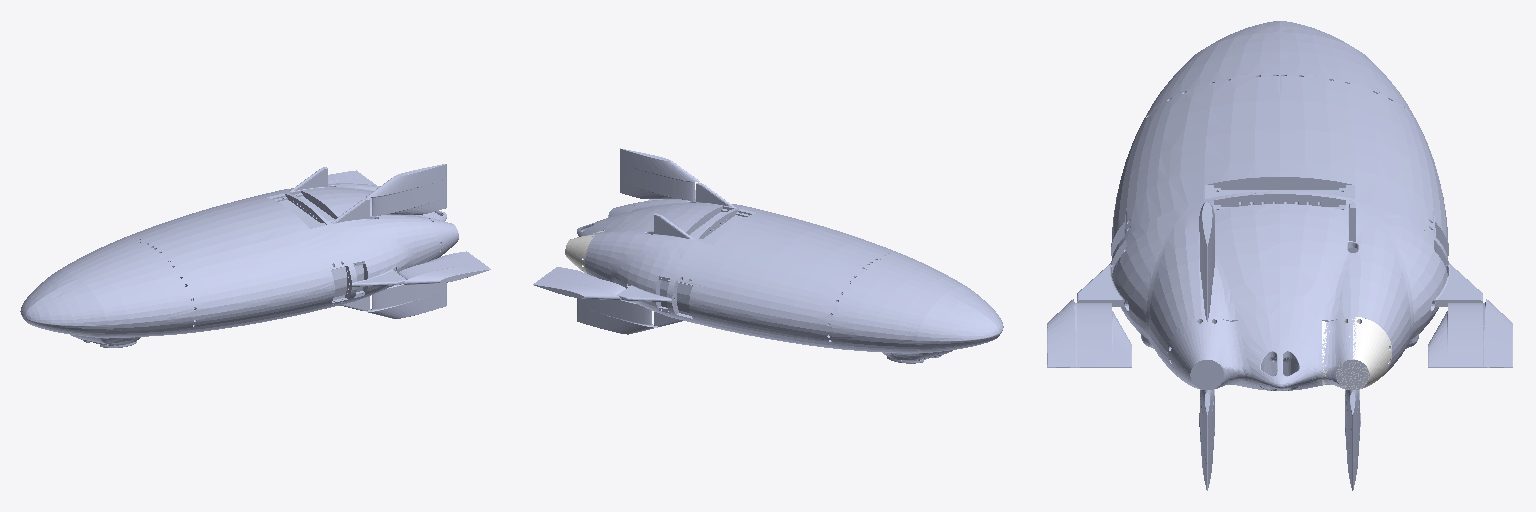
robot.urdf — Full_Assembly_URDF_Combined:
<?xml version="1.0" encoding="utf-8"?>
<!-- This URDF was automatically created by SolidWorks to URDF Exporter! Originally created by Stephen Brawner (brawner@gmail.com) 
     Commit Version: 1.6.0-4-g7f85cfe  Build Version: 1.6.7995.38578
     For more information, please see http://wiki.ros.org/sw_urdf_exporter -->
<robot
  name="Full_Assembly_URDF_Combined">
    <link name="world"/>
  <joint name="world_to_base" type="fixed">
    <parent link="world"/>
    <child link="base_link"/>
    <origin xyz="0 0 0" rpy="0 0 0"/>
  </joint>

<link
    name="base_link">
    <inertial>
      <origin
        xyz="0.78391 6.8773E-05 0.0017477"
        rpy="0 0 0" />
      <mass
        value="50.608" />
      <inertia
        ixx="1.5208"
        ixy="-0.00054244"
        ixz="0.0035527"
        iyy="1.2287"
        iyz="-0.00034252"
        izz="2.2027" />
    </inertial>
    <visual>
      <origin
        xyz="0 0 0"
        rpy="0 0 0" />
      <geometry>
        <mesh
          filename="package://loki_bringup/meshes/base_link.STL" />
      </geometry>
      <material
        name="">
        <color
          rgba="0.79216 0.81961 0.93333 1" />
      </material>
    </visual>
    <collision>
      <origin
        xyz="0 0 0"
        rpy="0 0 0" />
      <geometry>
        <mesh
          filename="package://loki_bringup/meshes/base_link.STL" />
      </geometry>
    </collision>
  </link>
  <link name="imu_link"/>
<joint name="imu_joint" type="fixed">
  <parent link="base_link"/>
  <child link="imu_link"/>
  <origin xyz="0 0 0" rpy="0 0 0"/>
</joint>

<link name="mag_link"/>
<joint name="mag_joint" type="fixed">
  <parent link="base_link"/>
  <child link="mag_link"/>
  <origin xyz="0 0 0" rpy="0 0 0"/>
</joint>
  <link
    name="dvl_link">
    <inertial>
      <origin
        xyz="0.0049709057384924 -8.21692642729358E-10 -0.0061276595567091"
        rpy="0 0 0" />
      <mass
        value="0.152864108890924" />
      <inertia
        ixx="0.000420880349267861"
        ixy="1.34445582378551E-12"
        ixz="-6.29275993865006E-09"
        iyy="0.000323326269815129"
        iyz="2.40831860015147E-14"
        izz="0.000741959167739447" />
    </inertial>
    <visual>
      <origin
        xyz="0 0 0"
        rpy="0 0 0" />
      <geometry>
        <mesh
          filename="package://loki_bringup/meshes/DVL_Link.STL" />
      </geometry>
      <material
        name="">
        <color
          rgba="0.792156862745098 0.819607843137255 0.933333333333333 1" />
      </material>
    </visual>
    <collision>
      <origin
        xyz="0 0 0"
        rpy="0 0 0" />
      <geometry>
        <mesh
          filename="package://loki_bringup/meshes/DVL_Link.STL" />
      </geometry>
    </collision>
  </link>
  <joint
    name="dvl_Joint"
    type="fixed">
    <origin
      xyz="0.315 0 -0.12349"
      rpy="0 0 0" />
    <parent
      link="base_link" />
    <child
      link="dvl_link" />
    <axis
      xyz="0 0 0" />
  </joint>
  <link
    name="TopRudder1_Link">
    <inertial>
      <origin
        xyz="0.11406342481885 5.3965112736809E-07 0.0451652793738003"
        rpy="0 0 0" />
      <mass
        value="0.590786732498221" />
      <inertia
        ixx="0.000817314036554564"
        ixy="-3.32339282259642E-09"
        ixz="6.45683527810724E-05"
        iyy="0.00309009037319869"
        iyz="-1.81174806028622E-08"
        izz="0.0023163369021697" />
    </inertial>
    <visual>
      <origin
        xyz="0 0 0"
        rpy="0 0 0" />
      <geometry>
        <mesh
          filename="package://loki_bringup/meshes/TopRudder1_Link.STL" />
      </geometry>
      <material
        name="">
        <color
          rgba="0.792156862745098 0.819607843137255 0.933333333333333 1" />
      </material>
    </visual>
    <collision>
      <origin
        xyz="0 0 0"
        rpy="0 0 0" />
      <geometry>
        <mesh
          filename="package://loki_bringup/meshes/TopRudder1_Link.STL" />
      </geometry>
    </collision>
  </link>
  <joint
    name="TopRudder1_Joint"
    type="revolute">
    <origin
      xyz="1.1616 -0.129 0.12538"
      rpy="0 0 0" />
    <parent
      link="base_link" />
    <child
      link="TopRudder1_Link" />
    <axis
      xyz="0 0 -1" />
    <limit
      lower="-3.0543"
      upper="3.0543"
      effort="3.5"
      velocity="3" />
  </joint>
  <link
    name="TopRudder2_Link">
    <inertial>
      <origin
        xyz="-0.347004375739745 -0.12893021407232 -0.124111472535882"
        rpy="0 0 0" />
      <mass
        value="54.3097707966866" />
      <inertia
        ixx="1.85656067793216"
        ixy="-0.00196638205157393"
        ixz="-0.0463289624670748"
        iyy="5.30793160673248"
        iyz="-0.000357588777733674"
        izz="6.34918261741631" />
    </inertial>
    <visual>
      <origin
        xyz="0 0 0"
        rpy="0 0 0" />
      <geometry>
        <mesh
          filename="package://loki_bringup/meshes/TopRudder2_Link.STL" />
      </geometry>
      <material
        name="">
        <color
          rgba="1 1 1 1" />
      </material>
    </visual>
    <collision>
      <origin
        xyz="0 0 0"
        rpy="0 0 0" />
      <geometry>
        <mesh
          filename="package://loki_bringup/meshes/TopRudder2_Link.STL" />
      </geometry>
    </collision>
  </link>
  <joint
    name="TopRudder2_Joint"
    type="revolute">
    <origin
      xyz="1.1616 0.129 0.12538"
      rpy="0 0 0" />
    <parent
      link="base_link" />
    <child
      link="TopRudder2_Link" />
    <axis
      xyz="0 0 -1" />
    <limit
      lower="-3.0543"
      upper="3.0543"
      effort="3.5"
      velocity="3" />
  </joint>
  <link
    name="BottomRudder1_Link">
    <inertial>
      <origin
        xyz="0.114063424818847 -5.39651127007268E-07 -0.0465424879815879"
        rpy="0 0 0" />
      <mass
        value="0.590786732498232" />
      <inertia
        ixx="0.000817314036554592"
        ixy="3.32339282189993E-09"
        ixz="-6.45683527810827E-05"
        iyy="0.00309009037319873"
        iyz="-1.81174806008853E-08"
        izz="0.00231633690216971" />
    </inertial>
    <visual>
      <origin
        xyz="0 0 0"
        rpy="0 0 0" />
      <geometry>
        <mesh
          filename="package://loki_bringup/meshes/BottomRudder1_Link.STL" />
      </geometry>
      <material
        name="">
        <color
          rgba="0.792156862745098 0.819607843137255 0.933333333333333 1" />
      </material>
    </visual>
    <collision>
      <origin
        xyz="0 0 0"
        rpy="0 0 0" />
      <geometry>
        <mesh
          filename="package://loki_bringup/meshes/BottomRudder1_Link.STL" />
      </geometry>
    </collision>
  </link>
  <joint
    name="BottomRudder1_Joint"
    type="revolute">
    <origin
      xyz="1.1616 -0.129 -0.124"
      rpy="0 0 0" />
    <parent
      link="base_link" />
    <child
      link="BottomRudder1_Link" />
    <axis
      xyz="0 0 1" />
    <limit
      lower="-3.0543"
      upper="3.0543"
      effort="3.5"
      velocity="3" />
  </joint>
  <link
    name="BottomRudder2_Joint">
    <inertial>
      <origin
        xyz="0.114063424818846 -5.39651127257068E-07 -0.0465424879815884"
        rpy="0 0 0" />
      <mass
        value="0.590786732498239" />
      <inertia
        ixx="0.000817314036554593"
        ixy="3.32339282441559E-09"
        ixz="-6.45683527810989E-05"
        iyy="0.00309009037319872"
        iyz="-1.81174806014077E-08"
        izz="0.0023163369021697" />
    </inertial>
    <visual>
      <origin
        xyz="0 0 0"
        rpy="0 0 0" />
      <geometry>
        <mesh
          filename="package://loki_bringup/meshes/BottomRudder2_Joint.STL" />
      </geometry>
      <material
        name="">
        <color
          rgba="0.792156862745098 0.819607843137255 0.933333333333333 1" />
      </material>
    </visual>
    <collision>
      <origin
        xyz="0 0 0"
        rpy="0 0 0" />
      <geometry>
        <mesh
          filename="package://loki_bringup/meshes/BottomRudder2_Joint.STL" />
      </geometry>
    </collision>
  </link>
  <joint
    name="BottomRudder2_Joint"
    type="revolute">
    <origin
      xyz="1.1616 0.129 -0.124"
      rpy="0 0 0" />
    <parent
      link="base_link" />
    <child
      link="BottomRudder2_Joint" />
    <axis
      xyz="0 0 1" />
    <limit
      lower="-3.0543"
      upper="3.0543"
      effort="3.5"
      velocity="3" />
  </joint>
  <link
    name="Elevator1_Link">
    <inertial>
      <origin
        xyz="0.116563424818847 -0.0451652793737996 5.39651127148258E-07"
        rpy="0 0 0" />
      <mass
        value="0.590786732498239" />
      <inertia
        ixx="0.0008173140365546"
        ixy="-6.45683527810796E-05"
        ixz="-3.32339282760955E-09"
        iyy="0.00231633690216975"
        iyz="1.81174806006159E-08"
        izz="0.00309009037319878" />
    </inertial>
    <visual>
      <origin
        xyz="0 0 0"
        rpy="0 0 0" />
      <geometry>
        <mesh
          filename="package://loki_bringup/meshes/Elevator1_Link.STL" />
      </geometry>
      <material
        name="">
        <color
          rgba="0.792156862745098 0.819607843137255 0.933333333333333 1" />
      </material>
    </visual>
    <collision>
      <origin
        xyz="0 0 0"
        rpy="0 0 0" />
      <geometry>
        <mesh
          filename="package://loki_bringup/meshes/Elevator1_Link.STL" />
      </geometry>
    </collision>
  </link>
  <joint
    name="Elevator1_Joint"
    type="revolute">
    <origin
      xyz="1.1541 -0.29788 0"
      rpy="0 0 0" />
    <parent
      link="base_link" />
    <child
      link="Elevator1_Link" />
    <axis
      xyz="0 1 0" />
    <limit
      lower="-3.0543"
      upper="3.0543"
      effort="3.5"
      velocity="3" />
  </joint>
  <link
    name="Elevator2_Link">
    <inertial>
      <origin
        xyz="0.116563424818846 0.0451652793737992 -5.3965112792912E-07"
        rpy="0 0 0" />
      <mass
        value="0.590786732498255" />
      <inertia
        ixx="0.00081731403655464"
        ixy="6.45683527811046E-05"
        ixz="3.32339282568966E-09"
        iyy="0.00231633690216979"
        iyz="1.81174805984361E-08"
        izz="0.00309009037319886" />
    </inertial>
    <visual>
      <origin
        xyz="0 0 0"
        rpy="0 0 0" />
      <geometry>
        <mesh
          filename="package://loki_bringup/meshes/Elevator2_Link.STL" />
      </geometry>
      <material
        name="">
        <color
          rgba="0.792156862745098 0.819607843137255 0.933333333333333 1" />
      </material>
    </visual>
    <collision>
      <origin
        xyz="0 0 0"
        rpy="0 0 0" />
      <geometry>
        <mesh
          filename="package://loki_bringup/meshes/Elevator2_Link.STL" />
      </geometry>
    </collision>
  </link>
  <joint
    name="Elevator2_Joint"
    type="fixed">
    <origin
      xyz="1.1541 0.29788 0"
      rpy="0 0 0" />
    <parent
      link="base_link" />
    <child
      link="Elevator2_Link" />
    <axis
      xyz="0 0 0" />
    <limit
      lower="-3.0543"
      upper="3.0543"
      effort="3.5"
      velocity="3" />
  </joint>
  <link
    name="Thruster1_Link">
    <inertial>
      <origin
        xyz="-0.0490917696113775 0.00210022795946702 4.68754707284568E-07"
        rpy="0 0 0" />
      <mass
        value="0.654254699059244" />
      <inertia
        ixx="0.00111306507280098"
        ixy="-4.73549434643004E-05"
        ixz="4.17660663947306E-09"
        iyy="0.000897148027270713"
        iyz="4.16508637924178E-08"
        izz="0.000907054385661878" />
    </inertial>
    <visual>
      <origin
        xyz="0 0 0"
        rpy="0 0 0" />
      <geometry>
        <mesh
          filename="package://loki_bringup/meshes/Thruster1_Link.STL" />
      </geometry>
      <material
        name="">
        <color
          rgba="0.792156862745098 0.819607843137255 0.933333333333333 1" />
      </material>
    </visual>
    <collision>
      <origin
        xyz="0 0 0"
        rpy="0 0 0" />
      <geometry>
        <mesh
          filename="package://loki_bringup/meshes/Thruster1_Link.STL" />
      </geometry>
    </collision>
  </link>
  <joint
    name="Thruster1_Joint"
    type="fixed">
    <origin
      xyz="1.444 -0.129 0"
      rpy="0 0 0" />
    <parent
      link="base_link" />
    <child
      link="Thruster1_Link" />
    <axis
      xyz="0 0 0" />
  </joint>
  <link
    name="Thruster2_Link">
    <inertial>
      <origin
        xyz="0 0 0"
        rpy="0 0 0" />
      <mass
        value="0" />
      <inertia
        ixx="0"
        ixy="0"
        ixz="0"
        iyy="0"
        iyz="0"
        izz="0" />
    </inertial>
    <visual>
      <origin
        xyz="0 0 0"
        rpy="0 0 0" />
      <geometry>
        <mesh
          filename="package://loki_bringup/meshes/Thruster2_Link.STL" />
      </geometry>
      <material
        name="">
        <color
          rgba="1 1 1 1" />
      </material>
    </visual>
    <collision>
      <origin
        xyz="0 0 0"
        rpy="0 0 0" />
      <geometry>
        <mesh
          filename="package://loki_bringup/meshes/Thruster2_Link.STL" />
      </geometry>
    </collision>
  </link>
  <joint
    name="Thruster2_Joint"
    type="fixed">
    <origin
      xyz="1.444 0.129 0"
      rpy="0 0 0" />
    <parent
      link="base_link" />
    <child
      link="Thruster2_Link" />
    <axis
      xyz="0 0 0" />
  </joint>
</robot>

--- Render facts (derived) ---
3 views of the same robot in one strip: view 1: azimuth 30°, elevation 25°; view 2: azimuth 150°, elevation 25°; view 3: azimuth 270°, elevation 25° (orthographic).
Model Full_Assembly_URDF_Combined with 13 links and 12 joints (5 revolute, 7 fixed), rooted at world, posed all joints at 0.
Visible links, largest first — view 1: base_link, TopRudder1_Link, BottomRudder1_Link, Elevator1_Link, Thruster1_Link; view 2: base_link, TopRudder1_Link, BottomRudder2_Joint, Elevator2_Link, Thruster2_Link; view 3: base_link, Elevator1_Link, Elevator2_Link, Thruster1_Link, Thruster2_Link, TopRudder1_Link, BottomRudder1_Link, BottomRudder2_Joint.
Link boxes in pixels (x1,y1,x2,y2): base_link: [20, 167, 451, 345]; TopRudder1_Link: [366, 164, 446, 215]; BottomRudder1_Link: [366, 283, 446, 318]; Elevator1_Link: [398, 251, 490, 284]; Thruster1_Link: [420, 215, 458, 257]; base_link: [570, 182, 1003, 360]; TopRudder1_Link: [620, 148, 699, 200]; BottomRudder2_Joint: [577, 298, 657, 334]; Elevator2_Link: [533, 267, 625, 299]; Thruster2_Link: [565, 230, 604, 273]; base_link: [1077, 21, 1482, 390]; Elevator1_Link: [1047, 299, 1131, 367]; Elevator2_Link: [1428, 299, 1512, 367]; Thruster1_Link: [1168, 317, 1237, 389]; Thruster2_Link: [1322, 317, 1391, 389]; TopRudder1_Link: [1199, 202, 1214, 321]; BottomRudder1_Link: [1199, 389, 1214, 490]; BottomRudder2_Joint: [1345, 389, 1360, 490].
Bounding box of the posed robot: 1.49 × 0.8258 × 0.4808 m (x, y, z).
Meshes: 10 distinct files referenced, 9 mesh visuals loaded (9 binary STL); not drawn: 1 (file found but could not be loaded).
